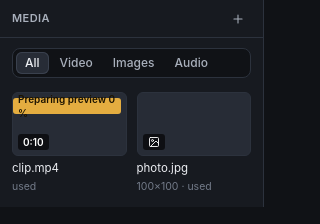
Test: media bin filters › shows all media, or only videos, pictures or sound
Check: the number of list items is 2, box top-left (12, 92), bottom-right (126, 195); top-left (136, 92), bottom-right (251, 195)
What coordinates should you click on to do the following:
click the button "Images"
I would click on:
 (134, 63)
Its box is top-left (104, 52), bottom-right (164, 74).
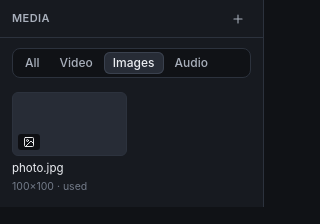
What coordinates should you click on to do the following:
click the button "Audio"
I would click on:
 (191, 63)
Its box is top-left (166, 52), bottom-right (217, 74).
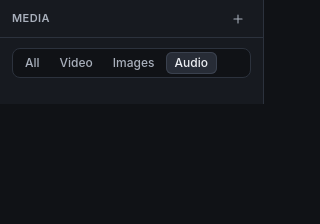
Check: no list items are shown
